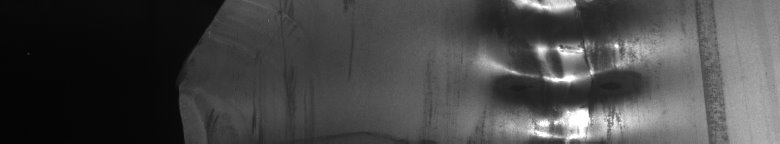ke: (491, 4, 632, 136)
